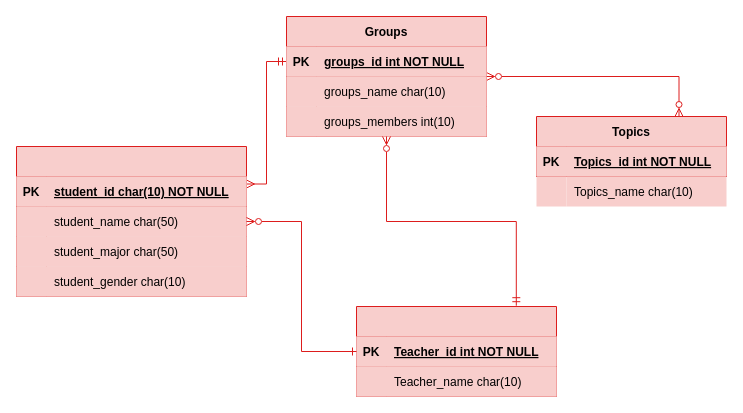
This 743x413 diagram has some shape labels left out. The box of each missing label's shape, as (x1, y1, x2, y2) in pixels:
Students: (16, 146, 246, 296)
Teachers: (356, 306, 556, 396)
